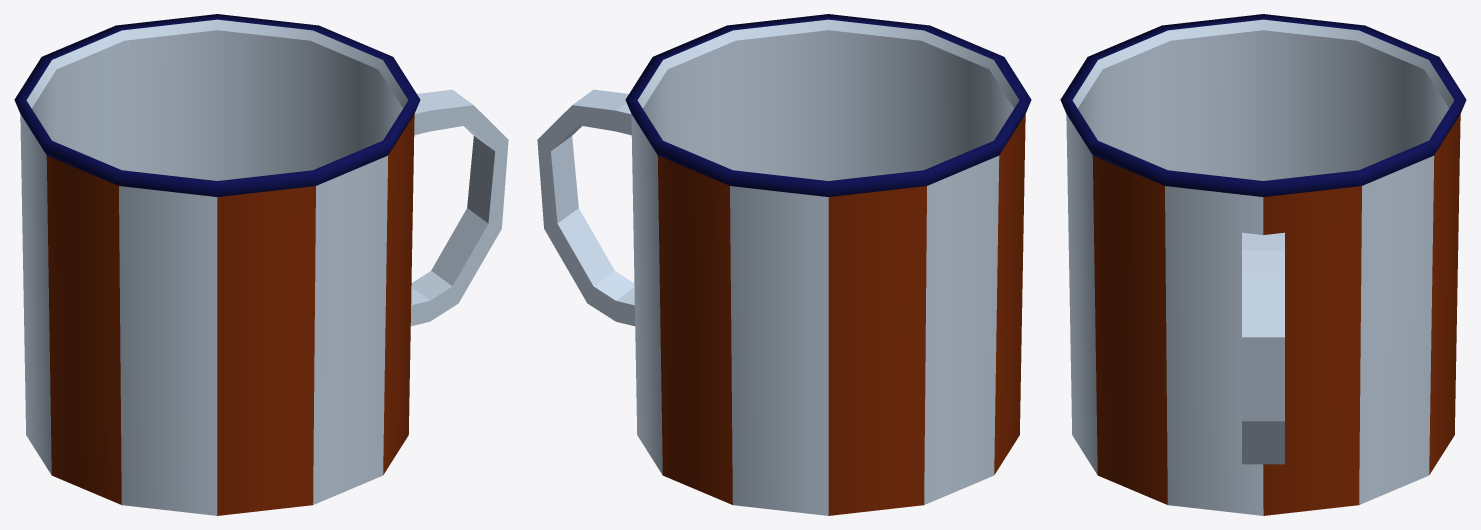
Rendered from gelas.fbx.
3 views of the same model, side by side, from view 1: azimuth 30°, elevation 25°; view 2: azimuth 150°, elevation 25°; view 3: azimuth 270°, elevation 25° (orthographic).
Parts seen in each view (by area): view 1: gelas; view 2: gelas; view 3: gelas.
Boxes of the visible parts, x1,y1,x2,y2 form: gelas: [14, 14, 508, 515]; gelas: [537, 14, 1031, 515]; gelas: [1060, 14, 1466, 515].
Bounding box in the file's own units: 23.99 × 16.88 × 18.49.
